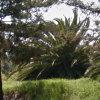Tree: (17, 9, 97, 85)
